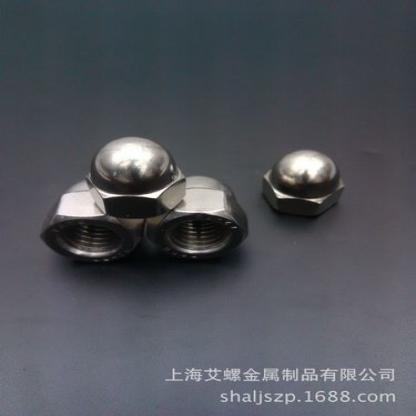FOD: (153, 166, 257, 270), (40, 169, 145, 269), (84, 129, 189, 221), (261, 145, 346, 218)
